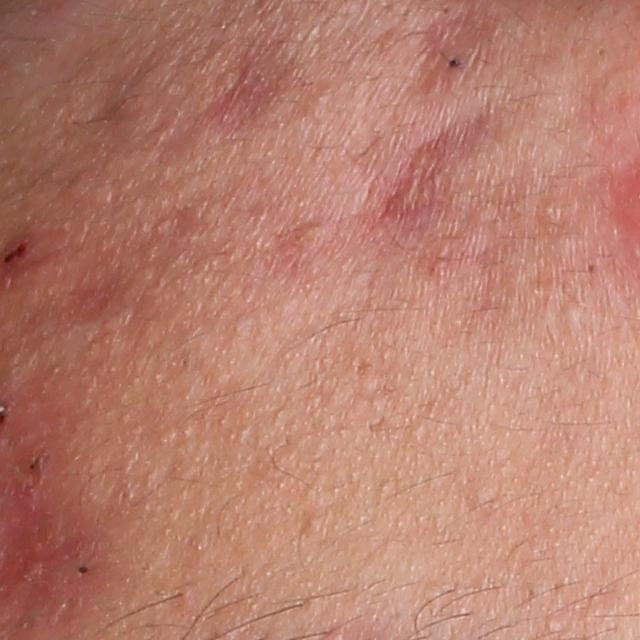comedo: (555, 302, 585, 334), (299, 512, 324, 538), (539, 203, 564, 222), (544, 614, 565, 633)
